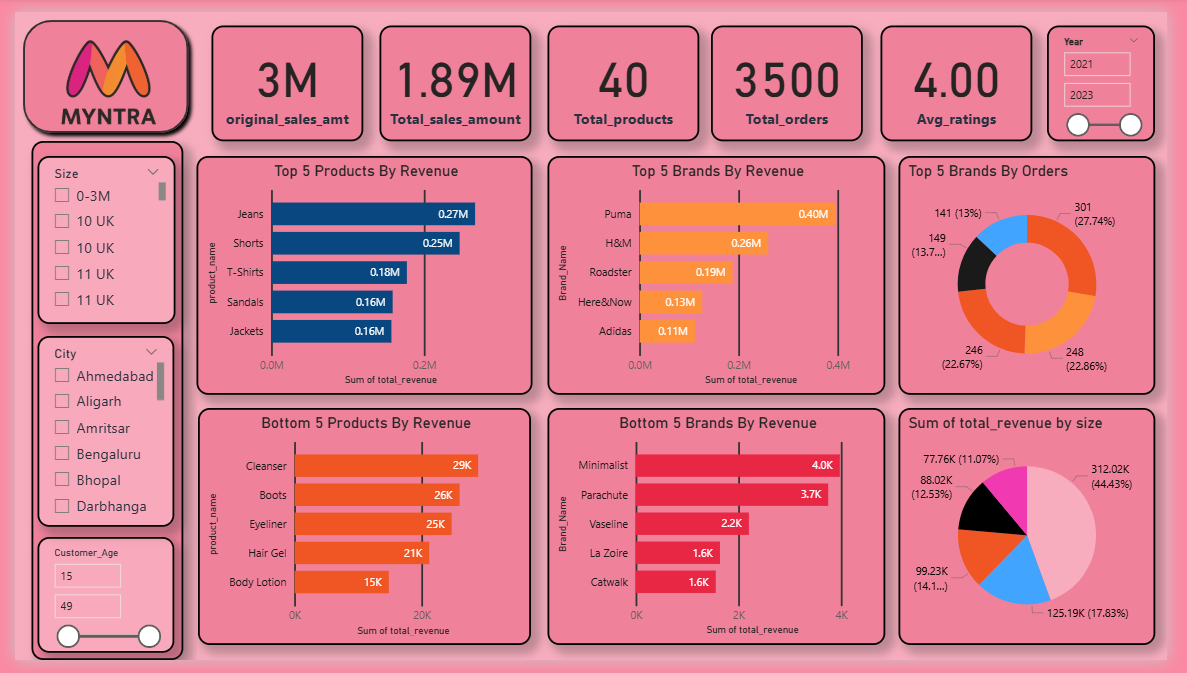

The page's visual inventory and layout, read from the dashboard file:
{"tool":"powerbi","page":{"name":"Page 2","canvas":[1280,720],"ordinal":1},"visuals":[{"type":"card","fields":{"Values":["Measures_table.Avg_ratings1"]},"box":[961.7,15,168.3,128.3],"z":0},{"type":"card","fields":{"Values":["Measures_table.original_sales_amount1"]},"box":[218.3,15,168.3,128.3],"z":1000},{"type":"card","fields":{"Values":["Measures_table.Total_products1"]},"box":[591.7,15,168.3,128.3],"z":2000},{"type":"card","fields":{"Values":["Measures_table.Total_orders1"]},"box":[773.3,15,168.3,128.3],"z":3000},{"type":"card","fields":{"Values":["Measures_table.Total_sales_amount1"]},"box":[405,15,168.3,128.3],"z":4000},{"type":"image","box":[1.6,0,200.4,160.7],"z":5000},{"type":"slicer","fields":{"Values":["Date_table.Year"]},"box":[1146.7,15,120,128.3],"z":6000},{"type":"shape","box":[0,0,201.7,143.3],"z":7000},{"type":"shape","box":[18.3,143.3,168.3,576.7],"z":8000},{"type":"slicer","fields":{"Values":["Myntra_dataset.Size"]},"box":[25,160,153.3,186.7],"z":9000},{"type":"slicer","fields":{"Values":["dim_customers.Customer_Age"]},"box":[25,583.3,151.7,128.3],"z":10000},{"type":"slicer","fields":{"Values":["dim_customers.City"]},"box":[25,360,151.7,211.7],"z":11000},{"type":"image","box":[3.3,0,200,160],"z":12000},{"type":"barChart","title":"Top 5 Products By Revenue","fields":{"Category":["Query1.product_name"],"Y":["Sum(Query1.total_revenue)"]},"box":[201.7,160,373.3,265],"z":13000},{"type":"barChart","title":"Bottom 5 Products By Revenue","fields":{"Category":["Query2.product_name"],"Y":["Sum(Query2.total_revenue)"]},"box":[203.3,440,370,263.3],"z":14000},{"type":"barChart","title":"Top 5 Brands By Revenue","fields":{"Category":["Top 5 Brands.Brand_Name"],"Y":["Sum(Query3.total_revenue)"]},"box":[591.7,160,375,265],"z":15000},{"type":"barChart","title":"Bottom 5 Brands By Revenue","fields":{"Category":["Query4.Brand_Name"],"Y":["Sum(Query4.total_revenue)"]},"box":[592,440,375,263],"z":16000},{"type":"donutChart","title":"Top 5 Brands By Orders","fields":{"Category":["Query1.Brand_Name"],"Y":["Sum(Query1.order_count)"]},"box":[981.7,160,285,265],"z":17000},{"type":"pieChart","fields":{"Category":["Query1.size"],"Y":["Sum(Query1.total_revenue)"]},"box":[982,440,285,263],"z":18000}]}

Visuals, with their boxes in screenshot pixels (x1, y1, x2, y2), scaled from the page's 1280x720 canvas onto the 1187x673 screenshot:
card - Measures_table.Avg_ratings1: detection(892, 14, 1048, 134)
card - Measures_table.original_sales_amount1: detection(202, 14, 359, 134)
card - Measures_table.Total_products1: detection(549, 14, 705, 134)
card - Measures_table.Total_orders1: detection(717, 14, 873, 134)
card - Measures_table.Total_sales_amount1: detection(376, 14, 532, 134)
image: detection(1, 0, 187, 150)
slicer - Date_table.Year: detection(1063, 14, 1175, 134)
shape: detection(0, 0, 187, 134)
shape: detection(17, 134, 173, 672)
slicer - Myntra_dataset.Size: detection(23, 150, 165, 324)
slicer - dim_customers.Customer_Age: detection(23, 545, 164, 665)
slicer - dim_customers.City: detection(23, 336, 164, 534)
image: detection(3, 0, 189, 150)
"Top 5 Products By Revenue" barChart: detection(187, 150, 533, 397)
"Bottom 5 Products By Revenue" barChart: detection(189, 411, 532, 657)
"Top 5 Brands By Revenue" barChart: detection(549, 150, 896, 397)
"Bottom 5 Brands By Revenue" barChart: detection(549, 411, 897, 657)
"Top 5 Brands By Orders" donutChart: detection(910, 150, 1175, 397)
pieChart - Query1.size x Sum(Query1.total_revenue): detection(911, 411, 1175, 657)
